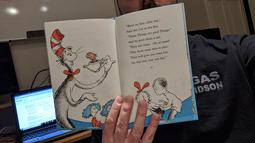text block: (123, 19, 174, 66)
